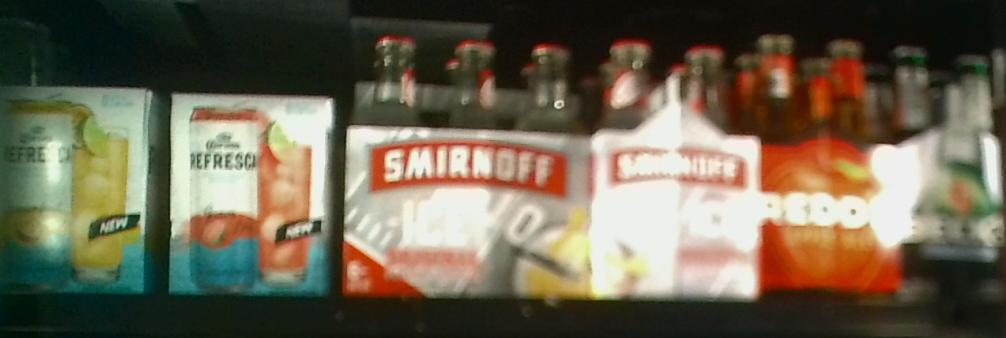bottle: (346, 28, 591, 300), (593, 30, 762, 305), (766, 29, 903, 290), (167, 89, 337, 288), (1, 92, 163, 292)
